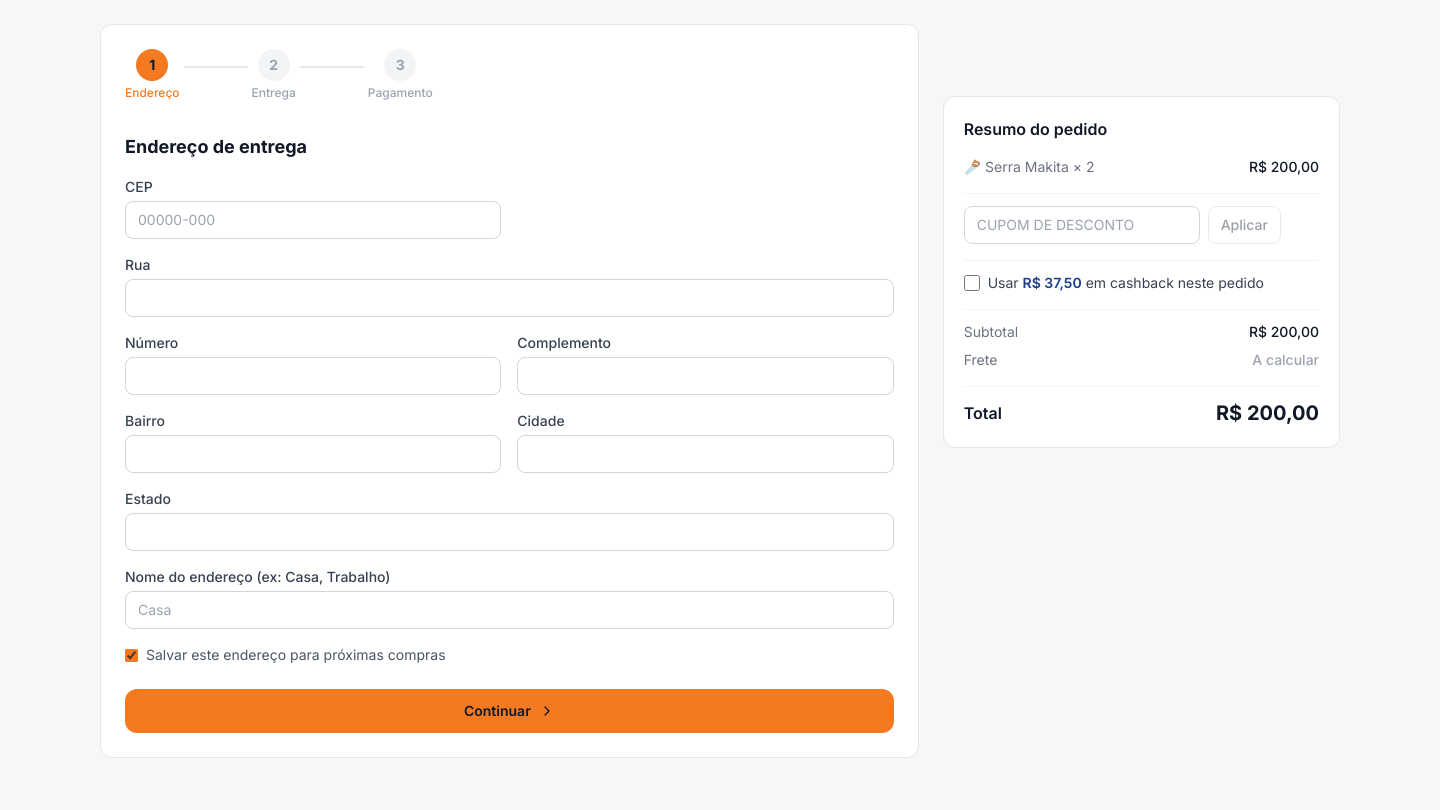
Test: CheckoutPage — cashback › oferece usar o cashback e abate o valor do total
The width and height of the screenshot is (1440, 810).
Click the checkbox labelled "Usar R$ 37,50 em cashback neste pedido". click: (972, 283)
box: [964,275,980,291]
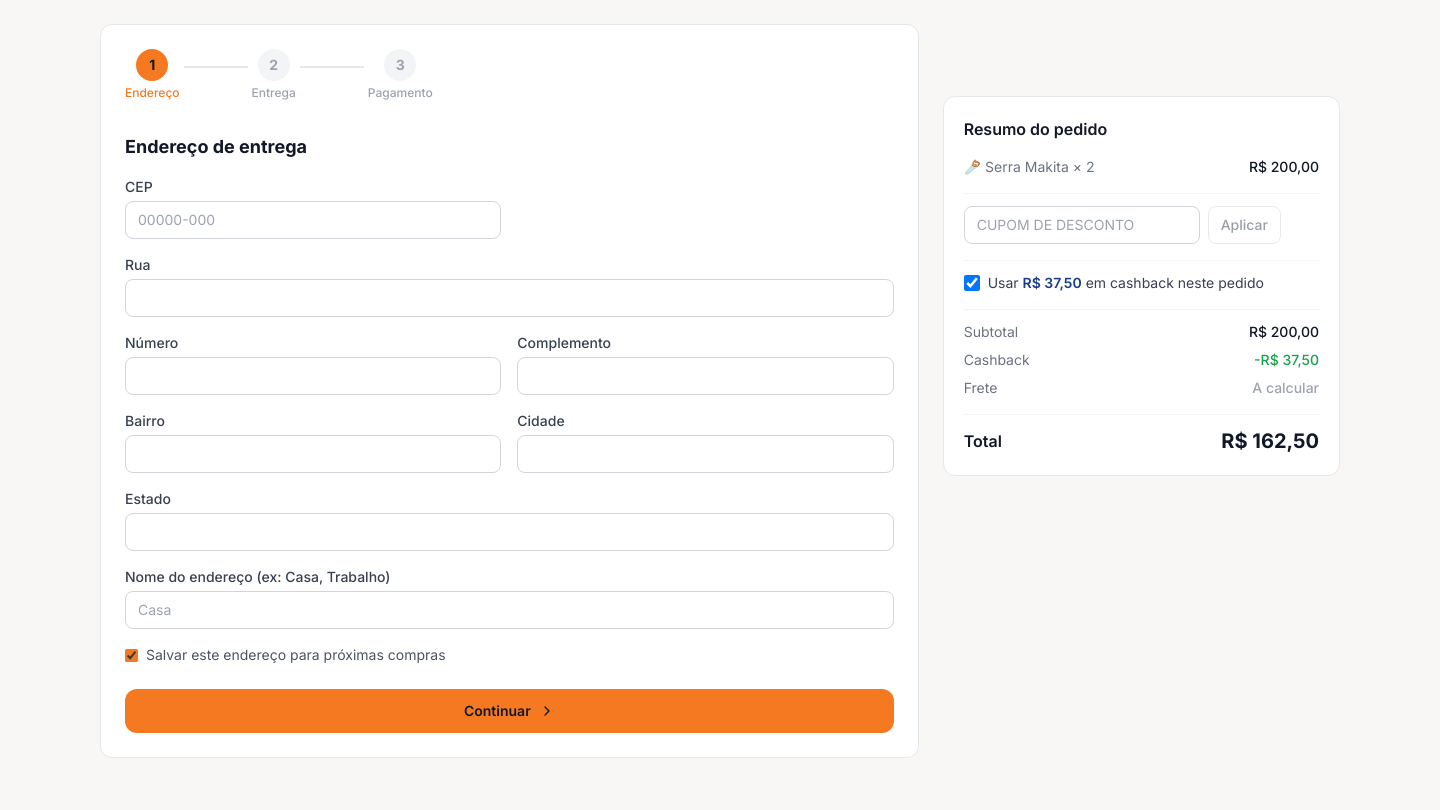
Result: the text "R$ 162,50" is shown at [1221,427,1319,455]
